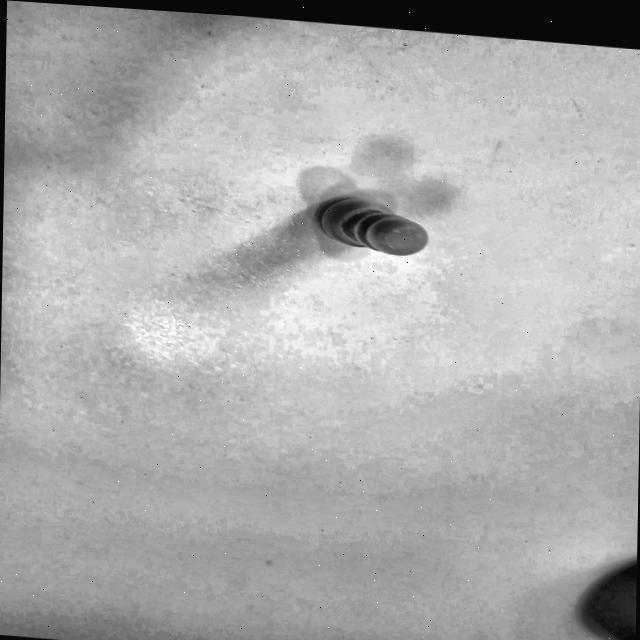white-pawn: (306, 182, 439, 259)
